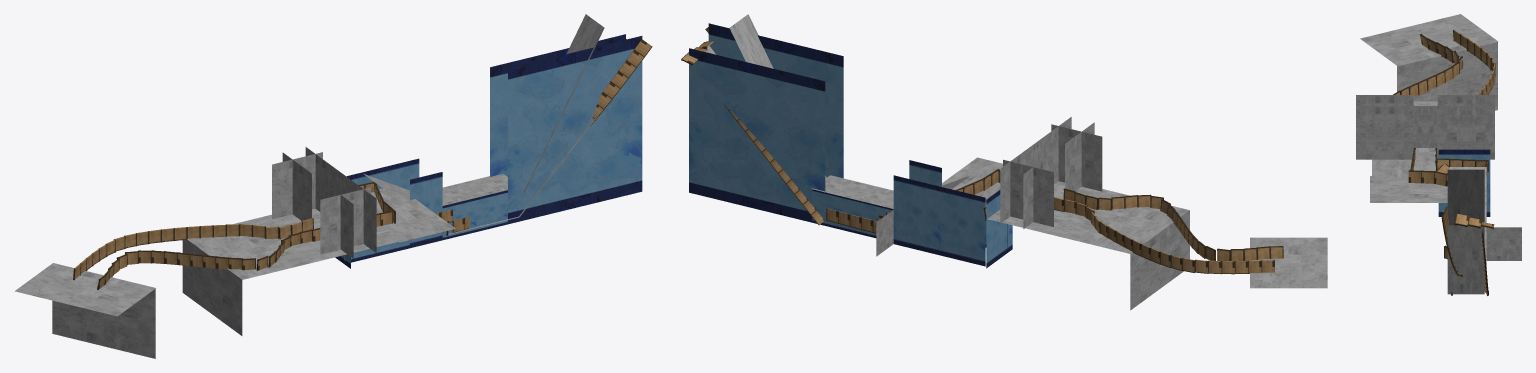
Rendered from NivelHielo.fbx.
The picture shows the model from 3 angles, left to right: view 1: azimuth 30°, elevation 25°; view 2: azimuth 150°, elevation 25°; view 3: azimuth 270°, elevation 25°; orthographic projection. The views are drawn at different scales.
Visible parts, largest first — view 1: Plane__72_, Plane__93_, Plane__91_, Plane__92_, Plane__76_, Plane__66_, Plane__88_, Plane__82_, Plane__85_, Plane__12_, Plane__16_, Plane__84_ (+9 smaller); view 2: Plane__76_, Plane__72_, Plane__91_, Plane__58_, Plane__23_, Plane__92_, Plane__88_, Plane__85_, Plane__82_, Plane__24_, Plane__74_, Plane__87_ (+9 smaller); view 3: Plane__91_, Plane__93_, Plane__73_, Plane__77_, Plane__66_, Plane__78__1, Plane__79_, Plane__83_, Plane__86_, Plane__60_, Plane__68_, Plane__24_ (+10 smaller).
Boxes of the visible parts, x1,y1,x2,y2 form: Plane__72_: [508, 36, 642, 224]; Plane__93_: [52, 289, 155, 358]; Plane__91_: [15, 263, 155, 316]; Plane__92_: [182, 239, 242, 335]; Plane__76_: [490, 34, 625, 176]; Plane__66_: [371, 185, 455, 242]; Plane__88_: [187, 223, 295, 279]; Plane__82_: [320, 187, 370, 254]; Plane__85_: [272, 152, 322, 219]; Plane__12_: [410, 172, 442, 248]; Plane__16_: [475, 190, 507, 232]; Plane__84_: [282, 152, 311, 220]; Plane__76_: [689, 48, 825, 222]; Plane__72_: [708, 23, 843, 178]; Plane__91_: [1250, 237, 1327, 288]; Plane__58_: [893, 175, 939, 255]; Plane__23_: [939, 186, 985, 266]; Plane__92_: [1130, 210, 1189, 310]; Plane__88_: [1076, 205, 1189, 253]; Plane__85_: [1003, 159, 1053, 226]; Plane__82_: [1051, 124, 1102, 191]; Plane__24_: [986, 190, 1012, 268]; Plane__74_: [812, 189, 862, 234]; Plane__87_: [987, 210, 1093, 240]; Plane__91_: [1360, 14, 1498, 66]; Plane__93_: [1397, 42, 1497, 110]; Plane__73_: [1447, 225, 1484, 294]; Plane__77_: [1447, 169, 1484, 225]; Plane__66_: [1370, 176, 1486, 202]; Plane__78__1: [1384, 106, 1413, 159]; Plane__79_: [1356, 106, 1384, 159]; Plane__83_: [1437, 106, 1466, 158]; Plane__86_: [1466, 106, 1494, 159]; Plane__60_: [1486, 227, 1521, 260]; Plane__68_: [1372, 152, 1437, 178]; Plane__24_: [1438, 149, 1490, 216].
Size of the model in its own units: 38406 by 11453 by 8950.
Materials: 4 (3 with a texture image).
